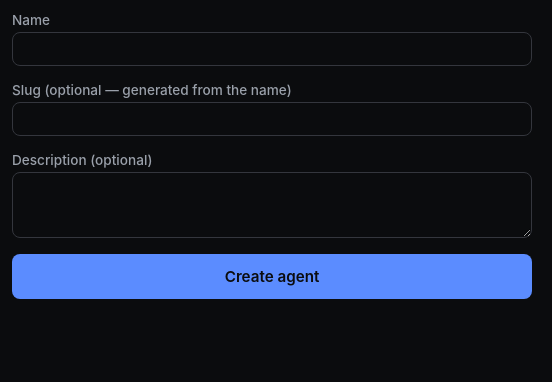
Test case: CreateAgentForm › keeps what the user typed after an error
Type "Keep me" into the field labelled "Name" at coordinates (272, 49), box [12, 32, 532, 66]
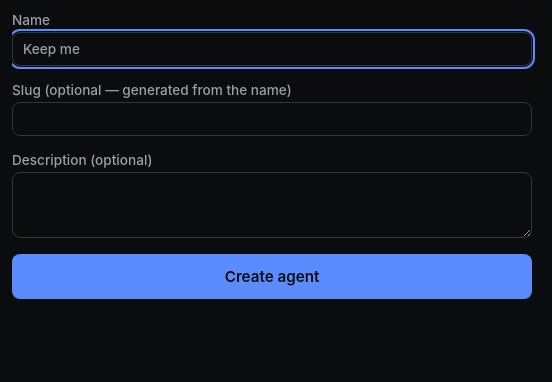
Click the button "Create agent" at coordinates (272, 276), box [12, 254, 532, 299]
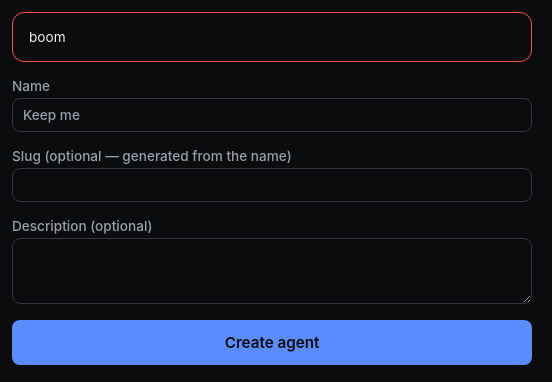
Check: the message "boom" is shown, box [12, 12, 532, 62]
